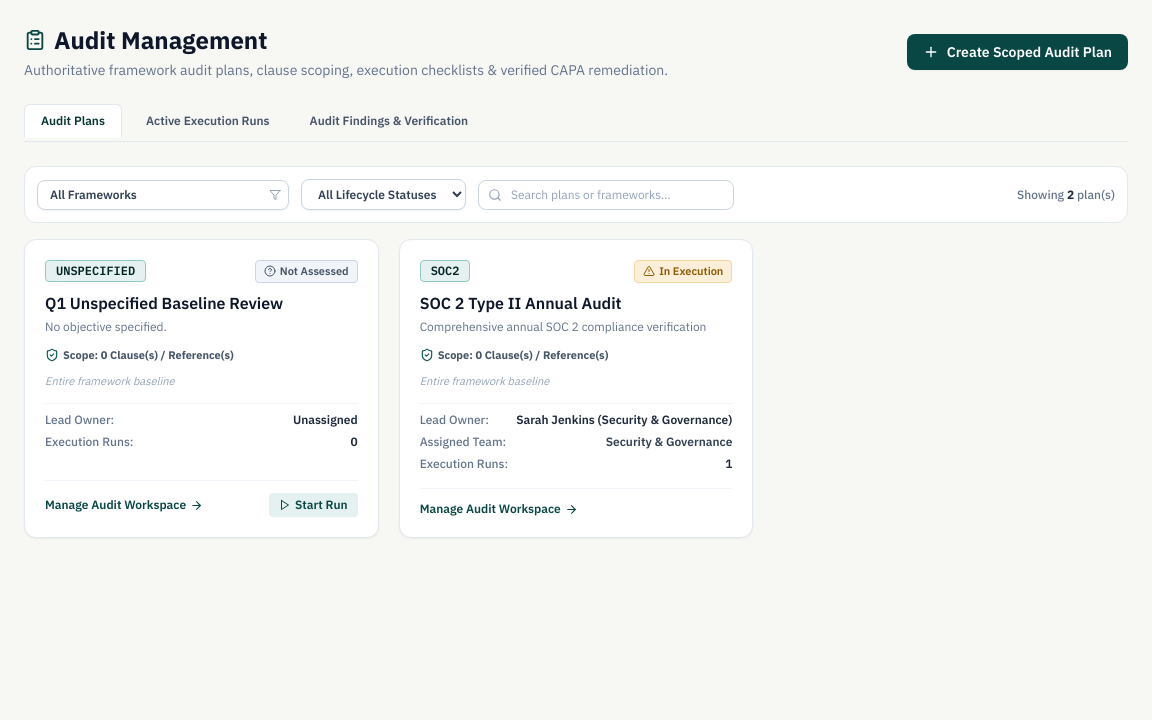
Scenario: Phase 2 — Audit Management Workspace and Workflow › 4. Complete Audit Details and Management Workspace › navigates back to audit list from workspace
expect the heading "SOC 2 Type II Annual Audit" is shown: met, box [420, 292, 622, 312]
Note: Click to open workspace
Click the 2nd button "Manage Audit Workspace".
click(499, 509)  # box [420, 501, 578, 517]
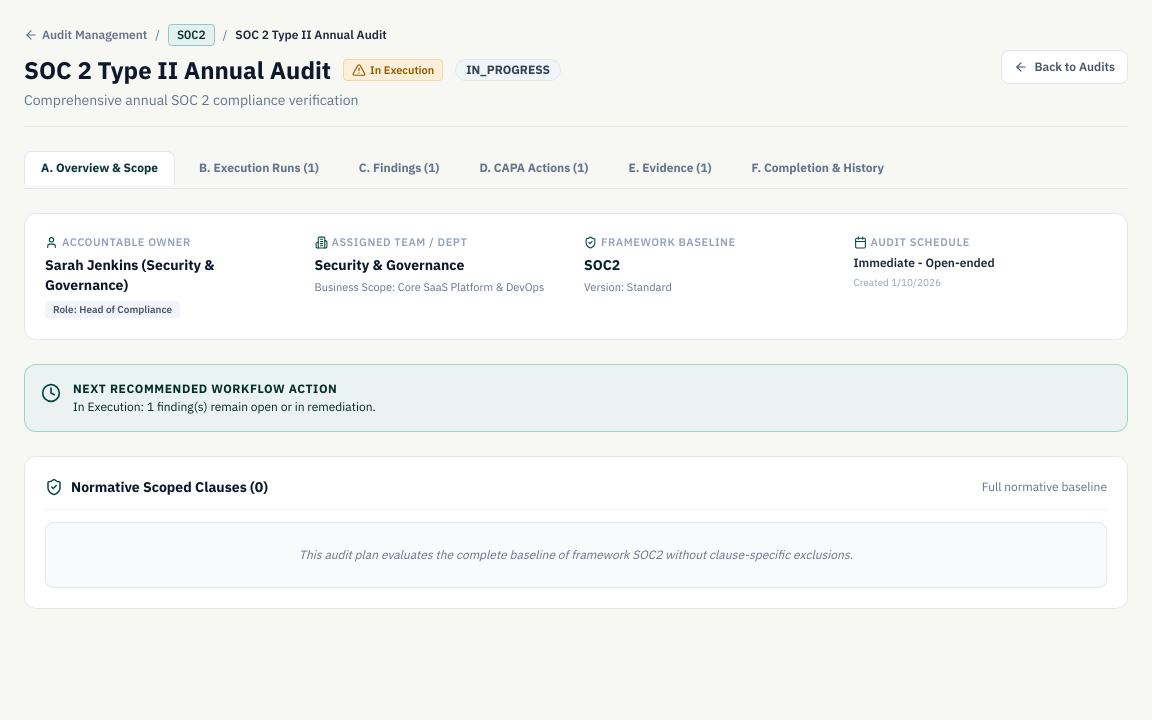
expect the button "Back to Audits" is shown: met
Note: Click back
Click the button "Back to Audits".
click(1065, 67)  # box [1002, 50, 1128, 84]
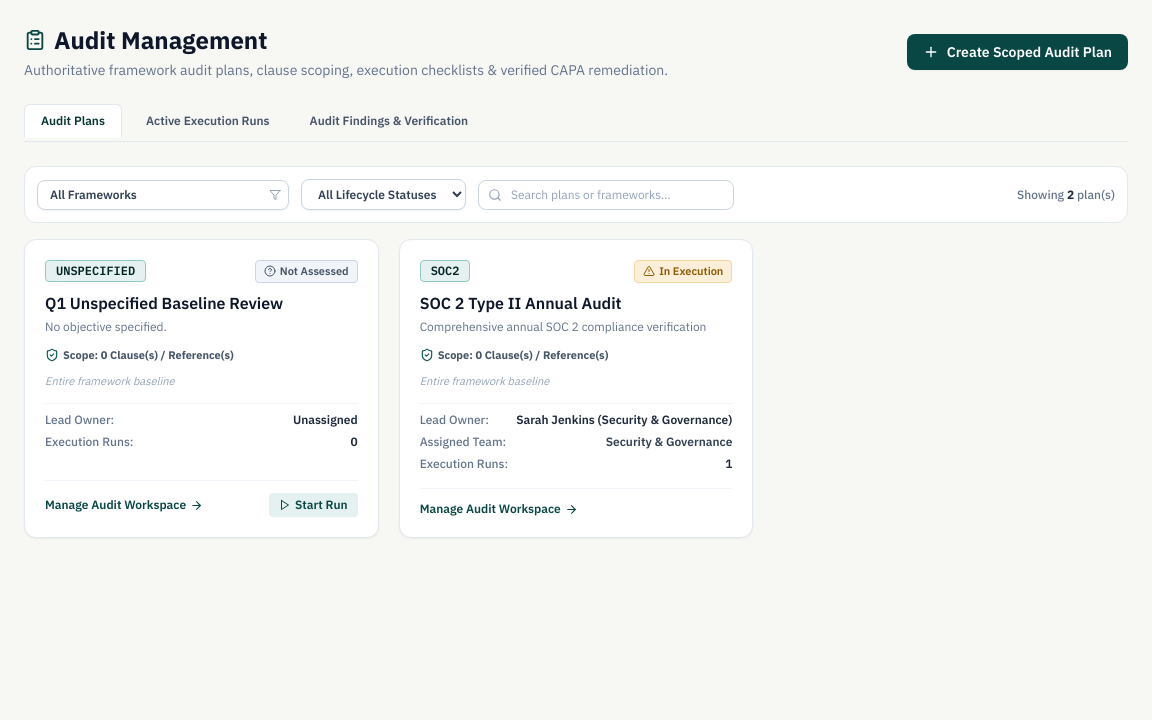
expect the dropdown named "filter by audit status" is shown: met, box [301, 179, 466, 210]
